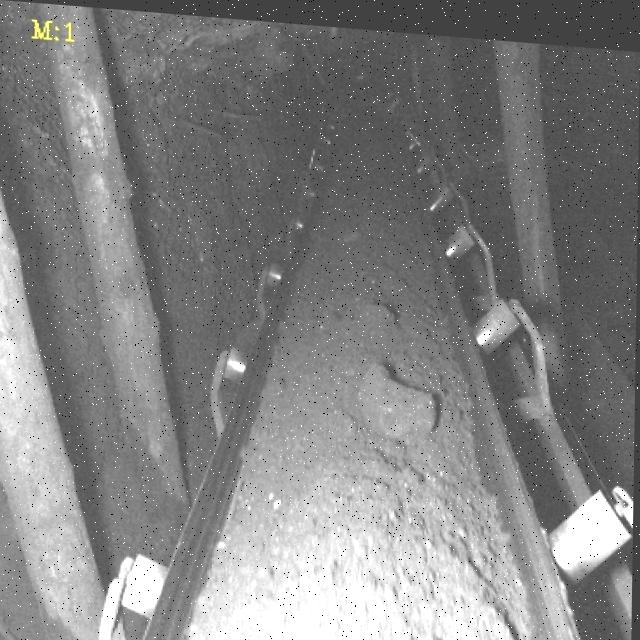large_sized_coal: (354, 351, 436, 438)
